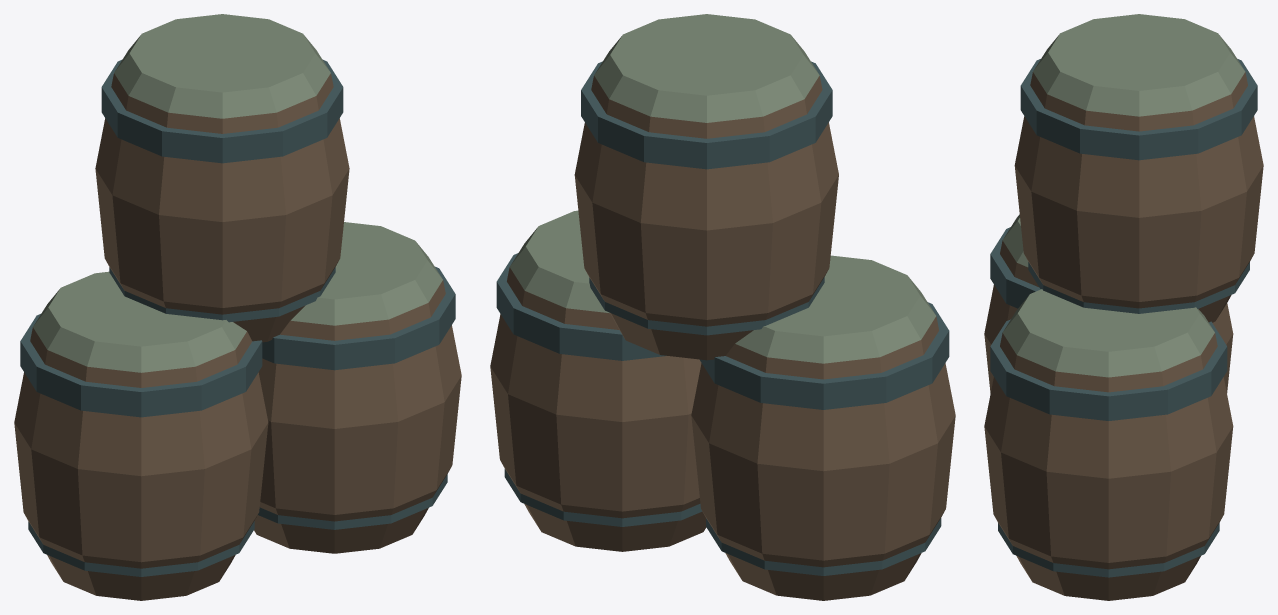
The model's file is barrel-stack.glb.
3 renders of one model, left to right at view 1: azimuth 30°, elevation 25°; view 2: azimuth 150°, elevation 25°; view 3: azimuth 270°, elevation 25°, orthographic. The views are drawn at different scales.
Visible parts, largest first — view 1: barrel-stack__body; view 2: barrel-stack__body; view 3: barrel-stack__body.
Part boxes in pixels (<box>): barrel-stack__body: <box>14,14,461,600</box>; barrel-stack__body: <box>490,14,955,600</box>; barrel-stack__body: <box>984,14,1263,600</box>.
Bounding box in the file's own units: 1.54 × 1.69 × 0.92.
